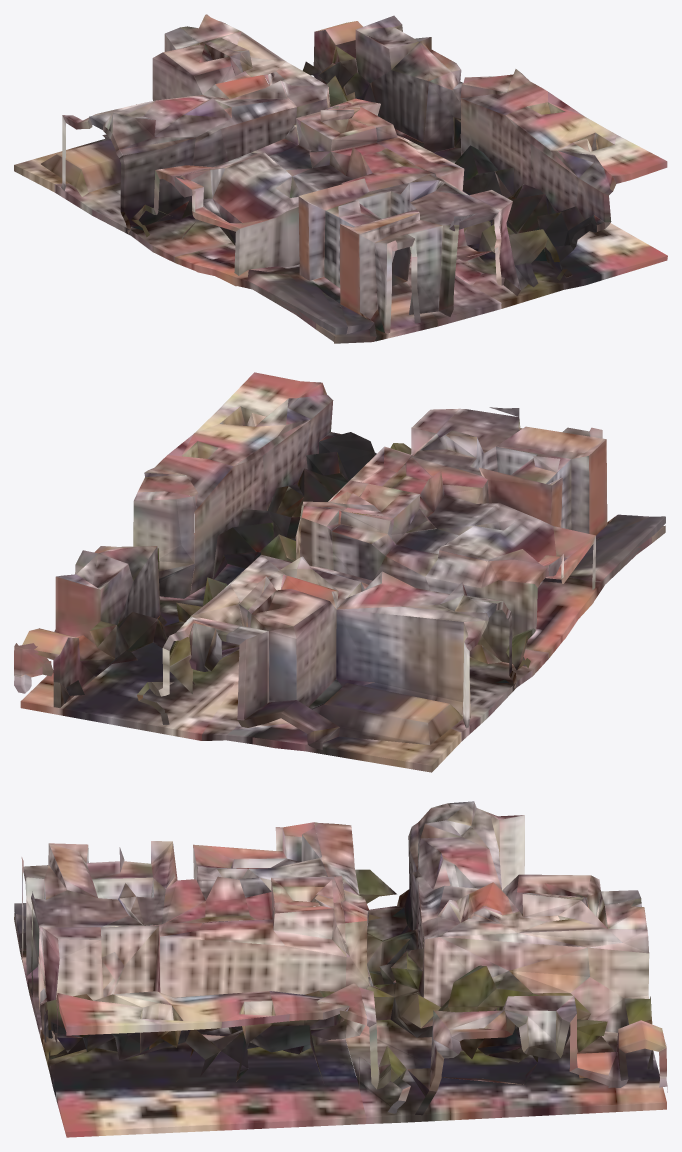
3 renders of one model, top to bottom at view 1: azimuth 30°, elevation 25°; view 2: azimuth 150°, elevation 25°; view 3: azimuth 270°, elevation 25°, orthographic. The views are drawn at different scales.
Parts seen in each view (by area): view 1: Mesh_0; view 2: Mesh_0; view 3: Mesh_0.
Boxes of the visible parts, x1=… form: Mesh_0: x1=14, y1=14, x2=667, y2=343; Mesh_0: x1=14, y1=372, x2=665, y2=772; Mesh_0: x1=14, y1=801, x2=667, y2=1137.
Size of the model in its own units: 133 by 37.49 by 165.
1 material, 1 textured.
